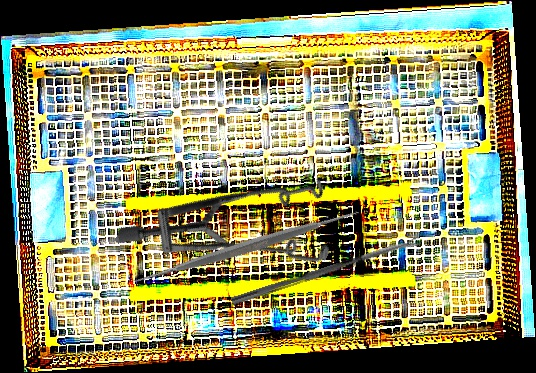Spatula Surgical: (123, 123, 369, 370)
Speculum: (113, 106, 359, 336)
Surgical Spoon: (230, 236, 422, 307)
